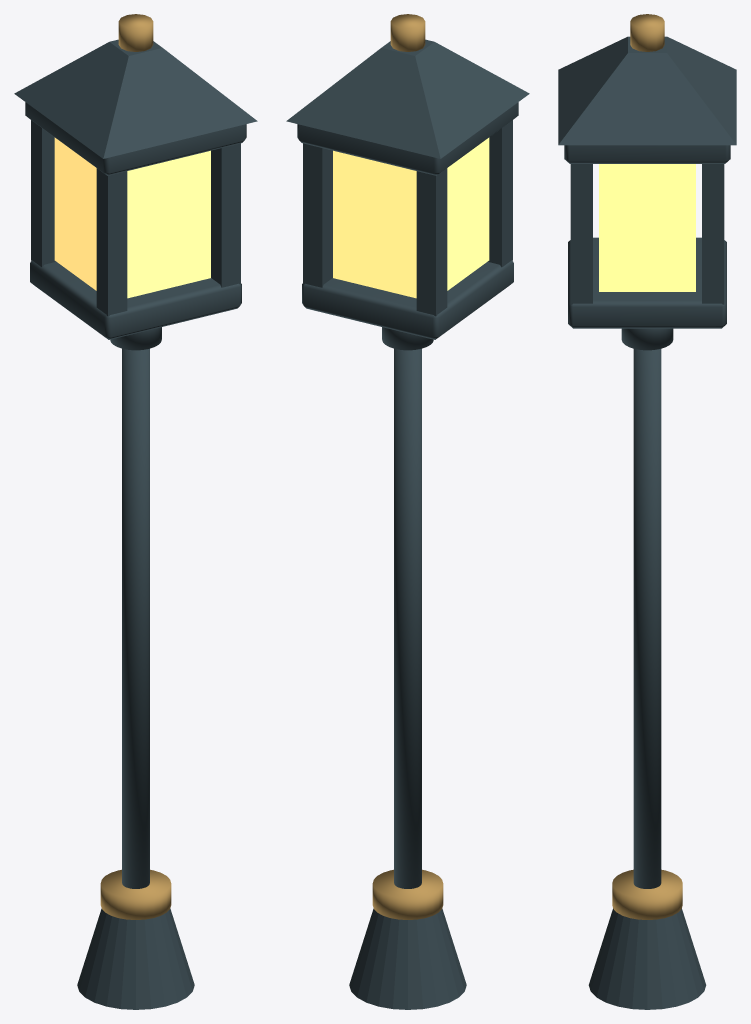
Rendered from street_lamp.glb.
3 views of the same model, side by side, from view 1: azimuth 30°, elevation 25°; view 2: azimuth 150°, elevation 25°; view 3: azimuth 270°, elevation 25° (orthographic).
Parts seen in each view (by area): view 1: Four sided lantern roof, Cast iron post_008m, Luminous pane_front_back, Flared cast foot, Lantern lower tray, Luminous pane_left_right, Lantern corner frame, Lantern corner frame.002, Lantern upper cornice, Lantern corner frame.001, Foot brass collar, Roof brass button (+1 smaller); view 2: Four sided lantern roof, Cast iron post_008m, Luminous pane_front_back.001, Flared cast foot, Lantern lower tray, Luminous pane_left_right, Lantern corner frame.001, Lantern corner frame.003, Lantern upper cornice, Lantern corner frame, Foot brass collar, Roof brass button (+1 smaller); view 3: Four sided lantern roof, Cast iron post_008m, Luminous pane_left_right.001, Flared cast foot, Lantern lower tray, Lantern corner frame.002, Lantern corner frame.003, Lantern upper cornice, Foot brass collar, Roof brass button, Post shoulder.
Part boxes in pixels (<box>): Four sided lantern roof: <box>14,39,257,158</box>; Cast iron post_008m: <box>122,348,149,888</box>; Luminous pane_front_back: <box>127,150,210,298</box>; Flared cast foot: <box>77,908,194,1009</box>; Lantern lower tray: <box>30,260,241,339</box>; Luminous pane_left_right: <box>54,137,96,290</box>; Lantern corner frame: <box>96,168,127,316</box>; Lantern corner frame.002: <box>211,143,240,287</box>; Lantern upper cornice: <box>25,102,246,175</box>; Lantern corner frame.001: <box>31,120,55,267</box>; Foot brass collar: <box>100,869,171,919</box>; Roof brass button: <box>118,14,153,51</box>; Four sided lantern roof: <box>286,39,529,158</box>; Cast iron post_008m: <box>394,348,421,888</box>; Luminous pane_front_back.001: <box>333,150,416,298</box>; Flared cast foot: <box>349,908,466,1009</box>; Lantern lower tray: <box>302,260,513,339</box>; Luminous pane_left_right: <box>447,137,489,290</box>; Lantern corner frame.001: <box>416,168,447,316</box>; Lantern corner frame.003: <box>303,143,332,287</box>; Lantern upper cornice: <box>297,102,518,175</box>; Lantern corner frame: <box>488,120,512,267</box>; Foot brass collar: <box>372,869,443,919</box>; Roof brass button: <box>390,14,425,51</box>; Four sided lantern roof: <box>558,36,736,145</box>; Cast iron post_008m: <box>633,349,661,888</box>; Luminous pane_left_right.001: <box>599,164,695,291</box>; Flared cast foot: <box>588,908,706,1009</box>; Lantern lower tray: <box>568,237,726,328</box>; Lantern corner frame.002: <box>570,164,592,304</box>; Lantern corner frame.003: <box>702,164,724,304</box>; Lantern upper cornice: <box>564,145,730,163</box>; Foot brass collar: <box>612,869,682,919</box>; Roof brass button: <box>630,14,664,51</box>; Post shoulder: <box>621,328,673,350</box>.
Size of the model in its own units: 0.5162 by 3.08 by 0.5162.
